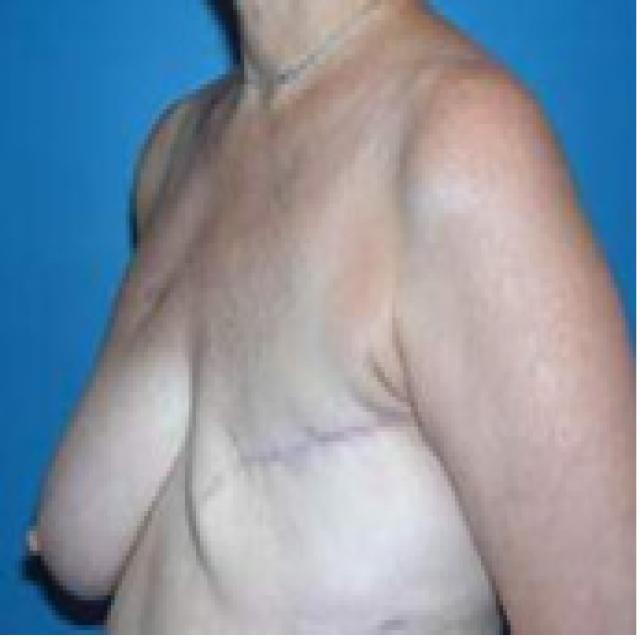Seno herido: (193, 289, 469, 637)
Seno ileso: (19, 285, 188, 630)
